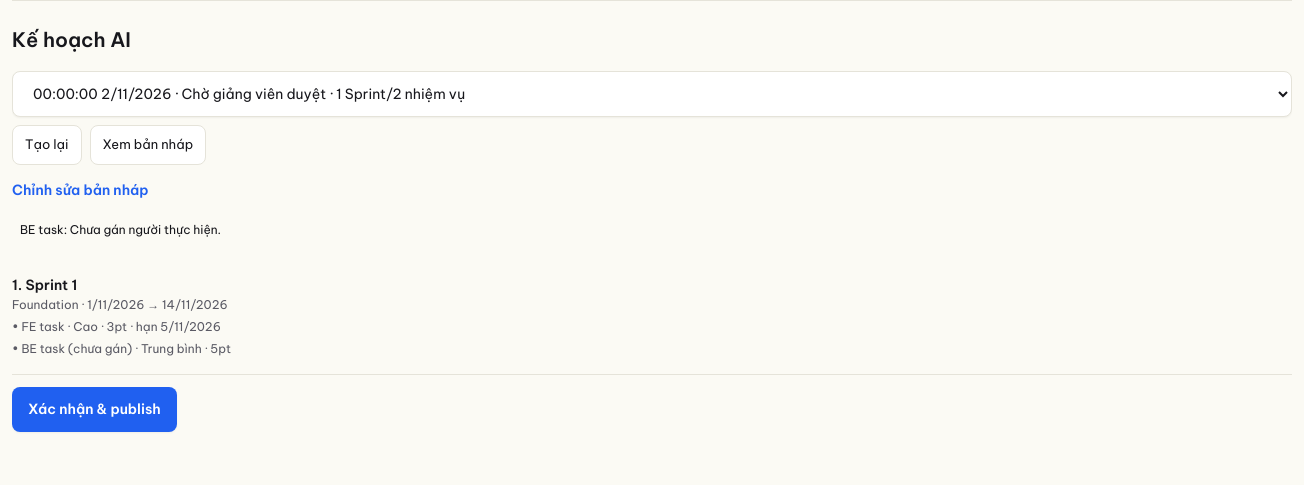
Test: AiPlanPanel (M5) › reviews draft sprints, tasks, warnings and confirms
This screenshot has width=1304, height=485.
Check: the text "1. Sprint 1" is shown, box [12,276,77,294]
Check: the list item "• FE task · Cao · 3pt · hạn 5/11/2026" is shown, box [12,319,221,334]
Click the button "Xác nhận & publish": (94,410) [12,387,177,432]
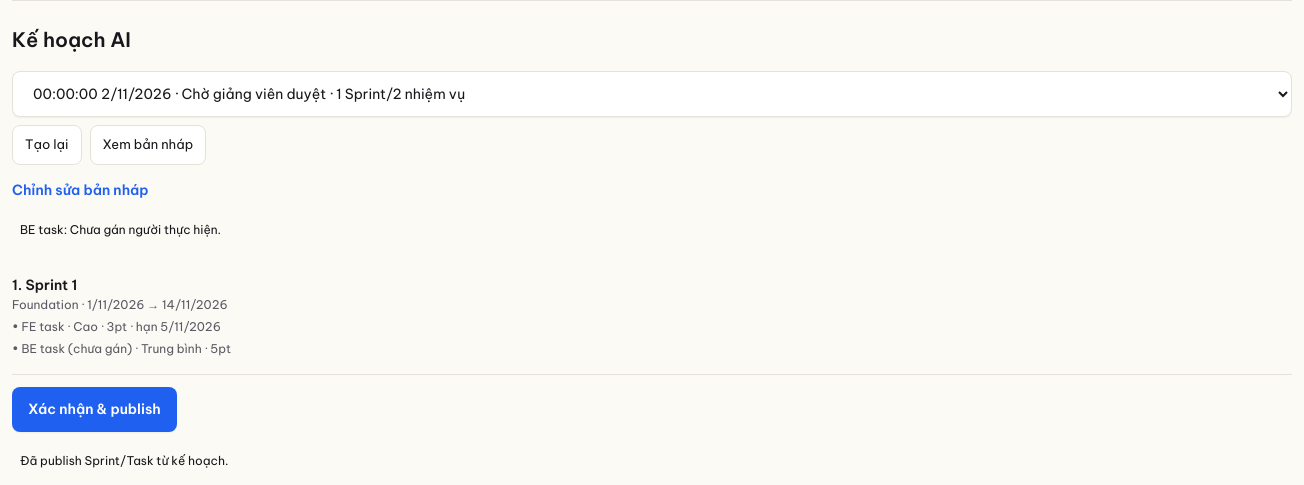
Check: the text "Đã publish Sprint/Task từ kế hoạch." is shown, box [20,453,228,468]
